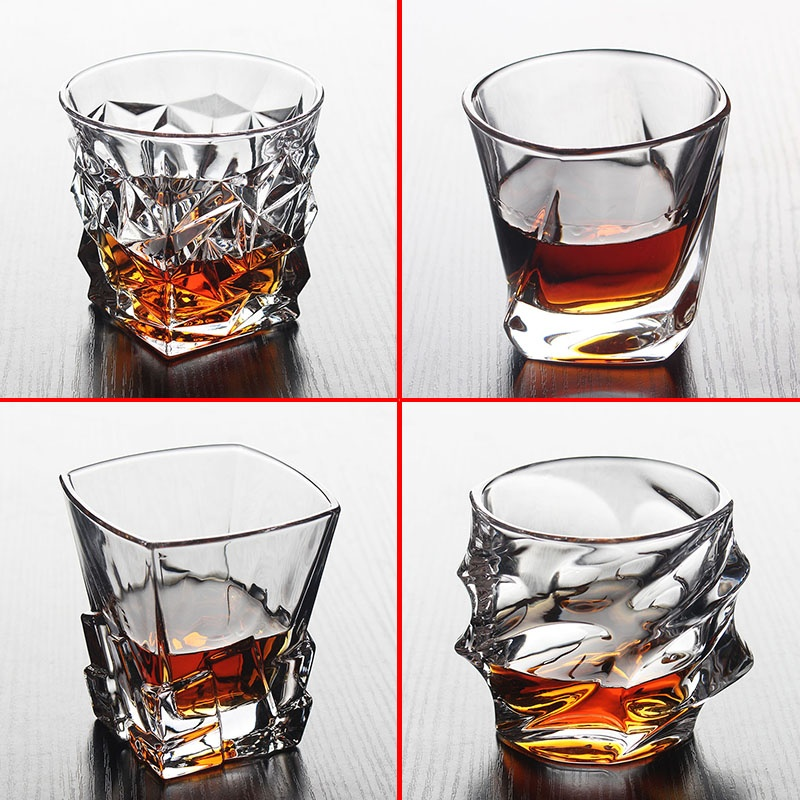whiskey: (50, 442, 342, 786), (465, 457, 765, 766), (62, 52, 330, 361), (466, 48, 721, 369)
